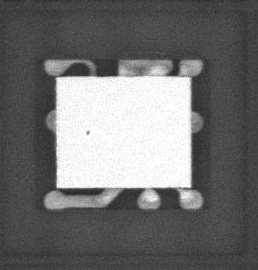DIE_INK: (80, 134, 88, 143)
